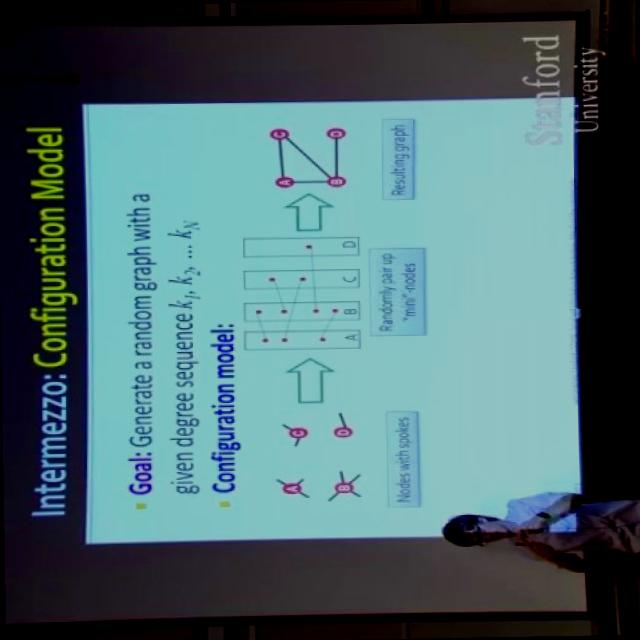Instructor: (420, 476, 628, 566)
Slide: (3, 91, 577, 557)
